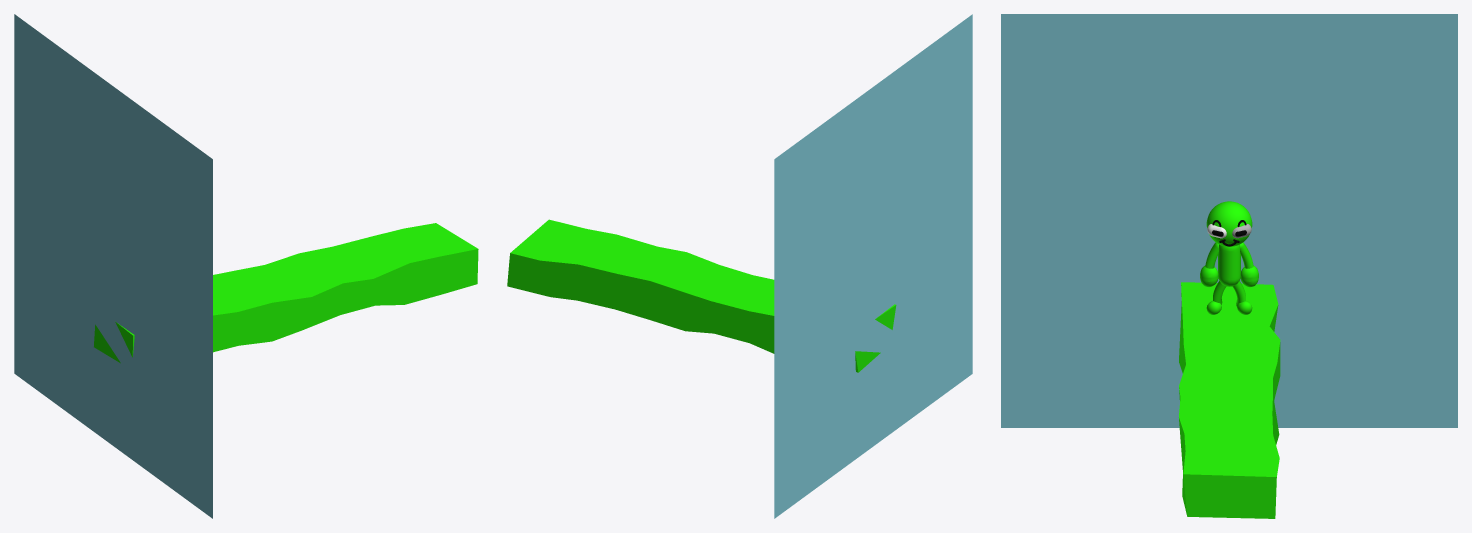
The model's file is spooki-bean-man-public-version.obj.
3 renders of one model, left to right at view 1: azimuth 30°, elevation 25°; view 2: azimuth 150°, elevation 25°; view 3: azimuth 270°, elevation 25°, orthographic. The views are drawn at different scales.
Parts seen in each view (by area): view 1: Plane, Box; view 2: Plane, Box; view 3: Plane, Box, Spookihead, Capsule9.
Boxes of the visible parts, <box> form: Plane: <box>14,14,212,518</box>; Box: <box>94,223,478,363</box>; Plane: <box>774,14,972,518</box>; Box: <box>507,219,896,372</box>; Plane: <box>1001,14,1457,427</box>; Box: <box>1179,282,1280,518</box>; Spookihead: <box>1206,201,1252,246</box>; Capsule9: <box>1218,244,1240,286</box>.
Bounding box in the file's own units: 10.15 × 10 × 10.
